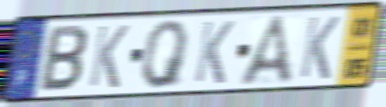A: (237, 13, 296, 88)
B: (37, 24, 89, 95)
K: (192, 19, 237, 87), (86, 24, 131, 91), (297, 15, 342, 82)
Q: (140, 18, 191, 91)
